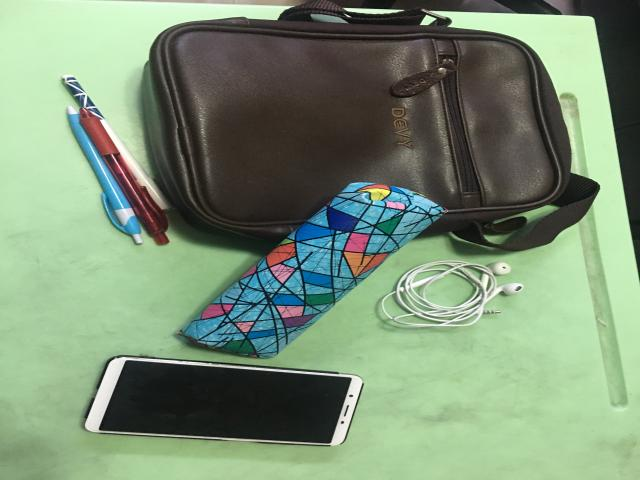Mobile phone: (85, 355, 363, 446)
Pen: (63, 78, 170, 246)
wire: (382, 261, 523, 326)
